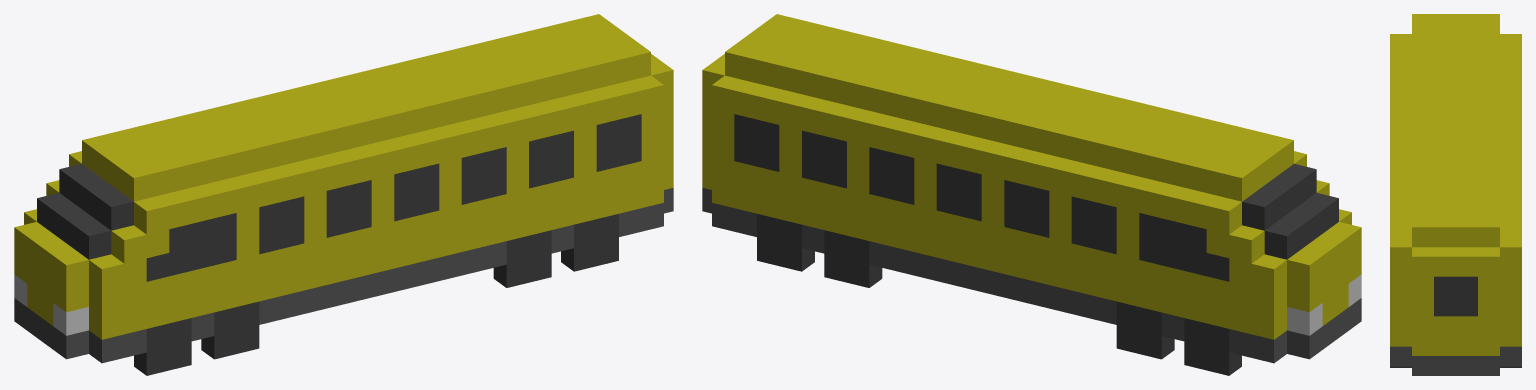
The model's file is train-v2-yellow.gltf.
The picture shows the model from 3 angles, left to right: view 1: azimuth 30°, elevation 25°; view 2: azimuth 150°, elevation 25°; view 3: azimuth 270°, elevation 25°; orthographic projection. The views are drawn at different scales.
Parts seen in each view (by area): view 1: model, wheels; view 2: model, wheels; view 3: model.
Part boxes in pixels (x1,y1,x2,y2): model: [14, 14, 673, 363]; wheels: [134, 214, 618, 375]; model: [702, 14, 1361, 363]; wheels: [757, 214, 1241, 375]; model: [1390, 14, 1521, 375].
Bounding box in the file's own units: 2.7 × 0.8 × 0.6.
2 materials, 2 textured.
